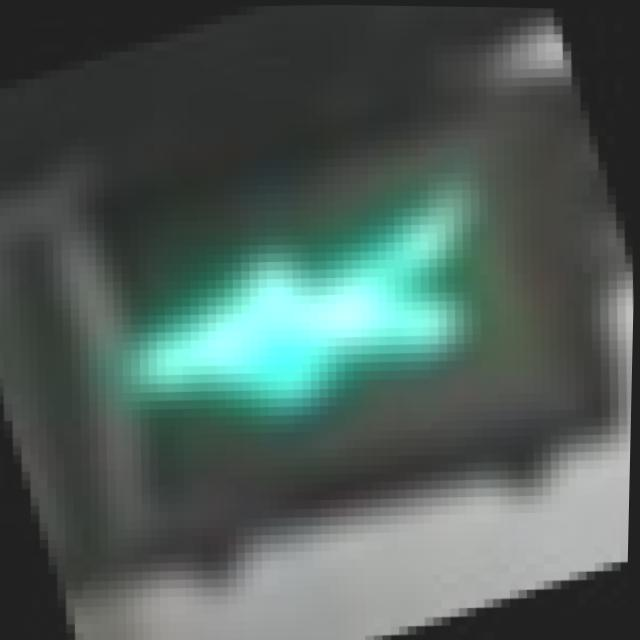green_light: (59, 77, 586, 544)
